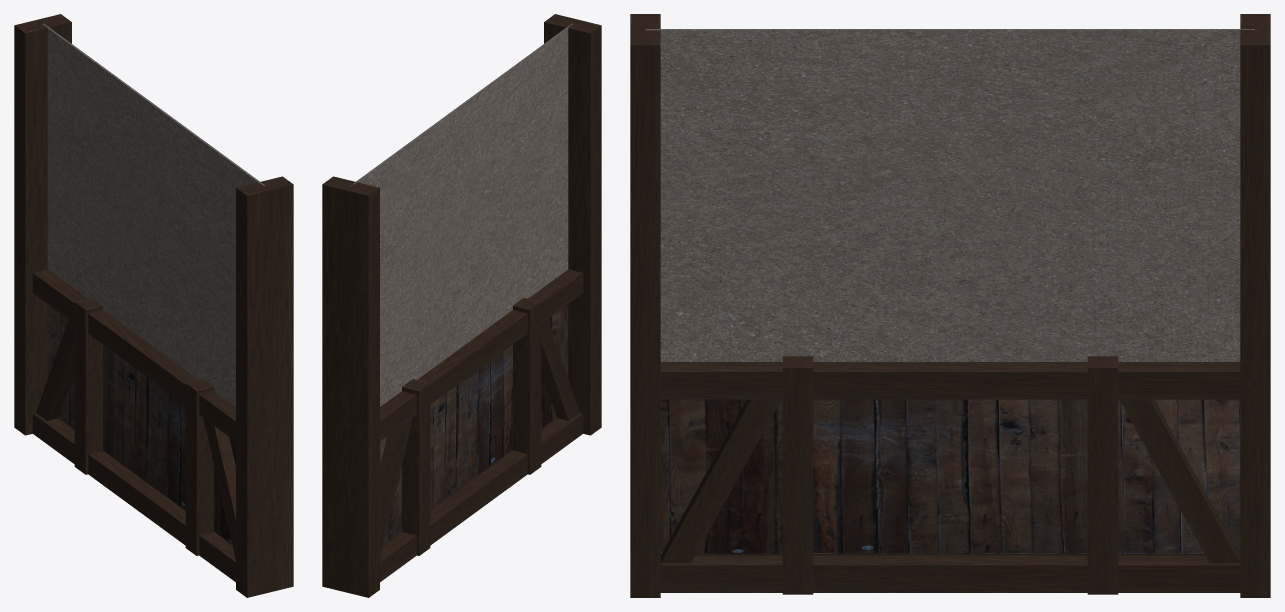
Rendered from OutdoorArchitecture_BasicWall04_BothEdges_BShortt.fbx.
The picture shows the model from 3 angles, left to right: view 1: azimuth 30°, elevation 25°; view 2: azimuth 150°, elevation 25°; view 3: azimuth 270°, elevation 25°; orthographic projection. The views are drawn at different scales.
Parts seen in each view (by area): view 1: OutdoorArchitecture_BasicWall04_BothEdges_BShortt; view 2: OutdoorArchitecture_BasicWall04_BothEdges_BShortt; view 3: OutdoorArchitecture_BasicWall04_BothEdges_BShortt.
Boxes of the visible parts, x1,y1,x2,y2 form: OutdoorArchitecture_BasicWall04_BothEdges_BShortt: [14, 14, 293, 597]; OutdoorArchitecture_BasicWall04_BothEdges_BShortt: [322, 14, 601, 597]; OutdoorArchitecture_BasicWall04_BothEdges_BShortt: [630, 14, 1270, 597].
Size of the model in its own units: 36.37 by 300 by 315.
